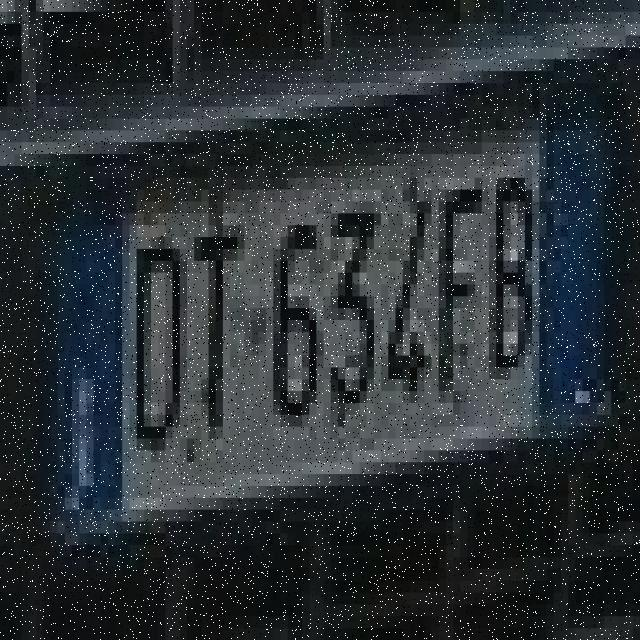licenseplate: (22, 86, 580, 537)
